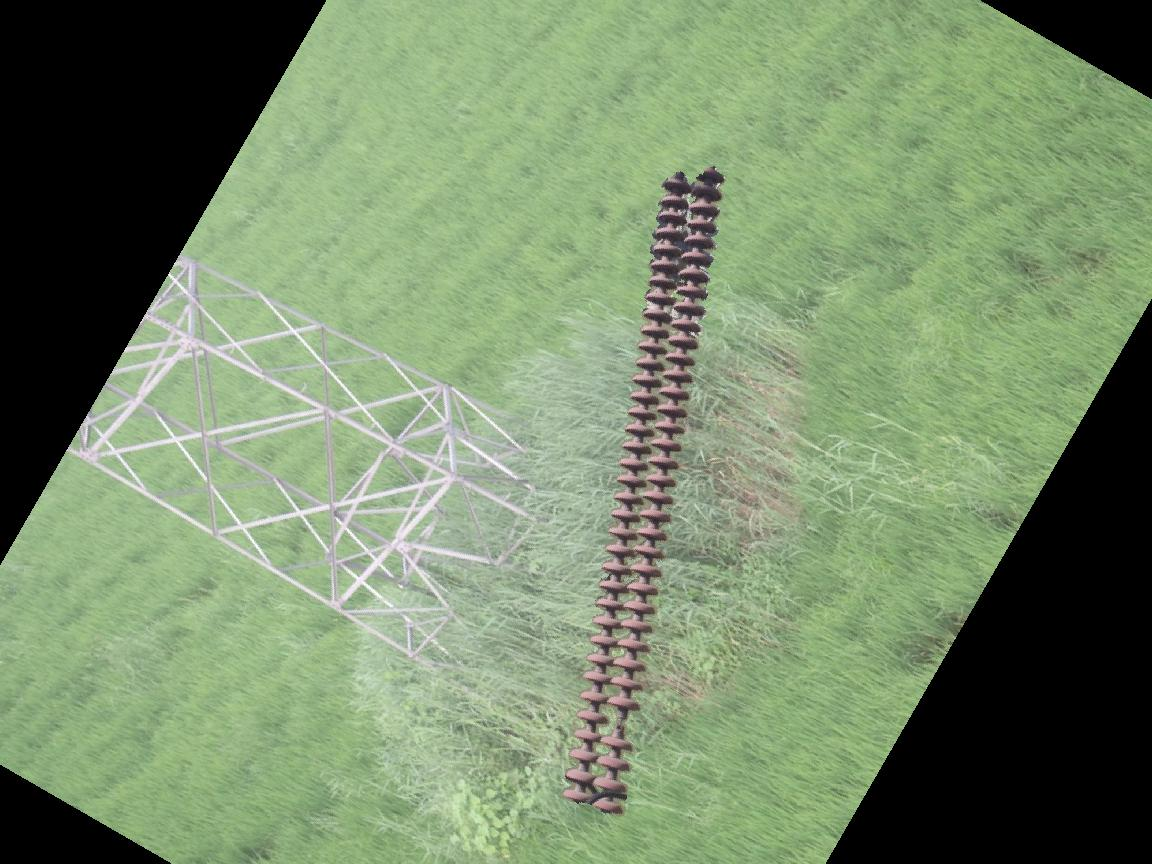insulator: (561, 164, 732, 821)
insulator_stringdrop: (597, 692, 645, 754)
